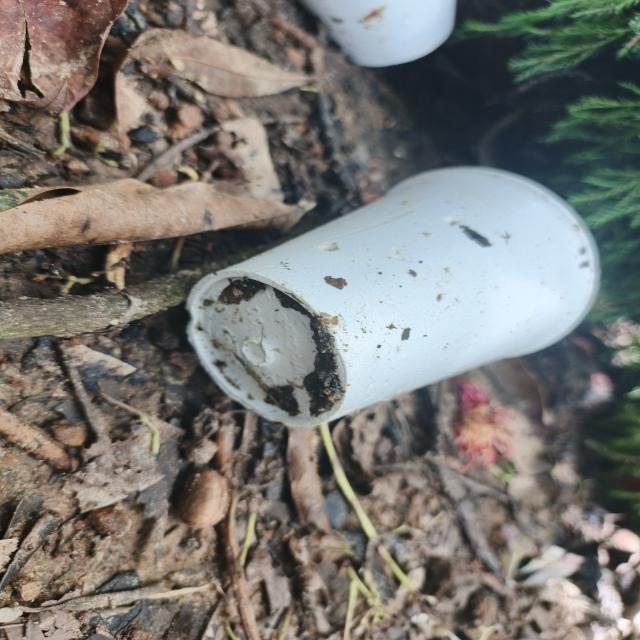plastic: (183, 157, 616, 441), (287, 0, 464, 71)
